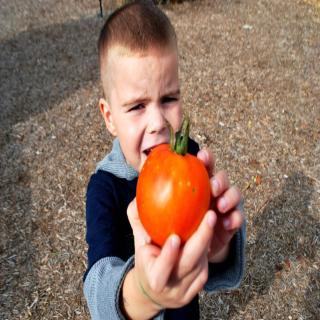tomato: (136, 114, 211, 247)
